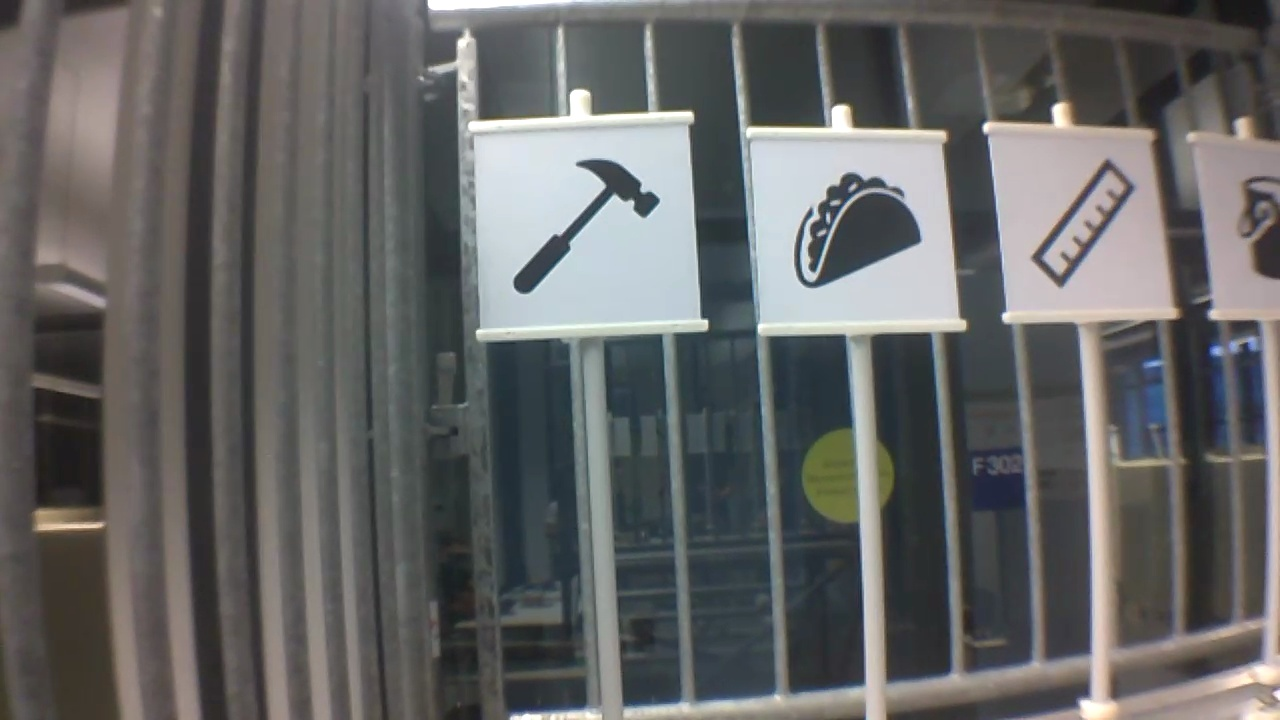hammer: (505, 154, 665, 297)
ruler: (1023, 152, 1141, 292)
taco: (790, 167, 926, 293)
